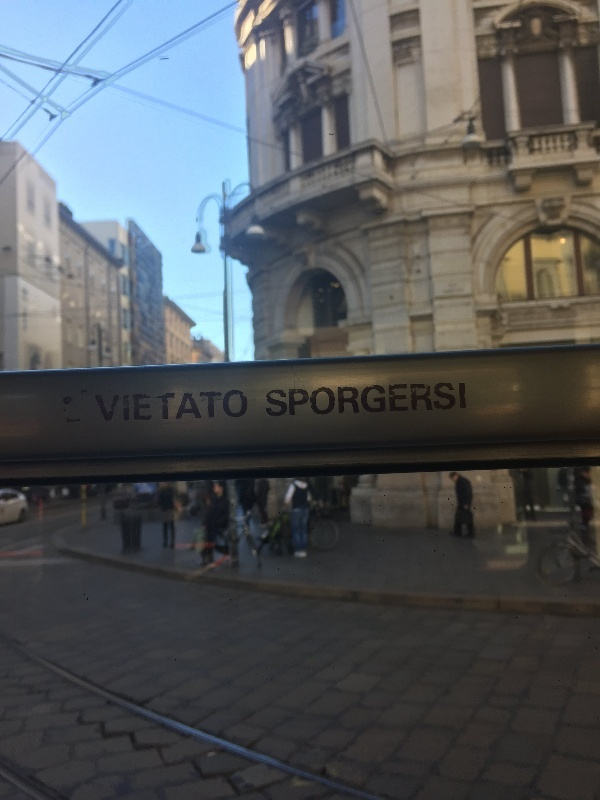text: (97, 387, 112, 425), (113, 387, 128, 425), (129, 387, 144, 425), (145, 387, 160, 425), (161, 387, 176, 425), (177, 387, 192, 425), (193, 387, 208, 425), (209, 387, 224, 425), (225, 387, 240, 425), (273, 380, 288, 418), (289, 380, 304, 418), (305, 380, 320, 418), (321, 380, 336, 418), (337, 380, 352, 418), (353, 380, 368, 418), (369, 380, 384, 418), (385, 380, 400, 418), (401, 380, 416, 418), (417, 380, 432, 418), (433, 380, 448, 418), (449, 380, 464, 418), (241, 387, 248, 425), (266, 380, 272, 418), (94, 387, 96, 425), (465, 380, 467, 418)
